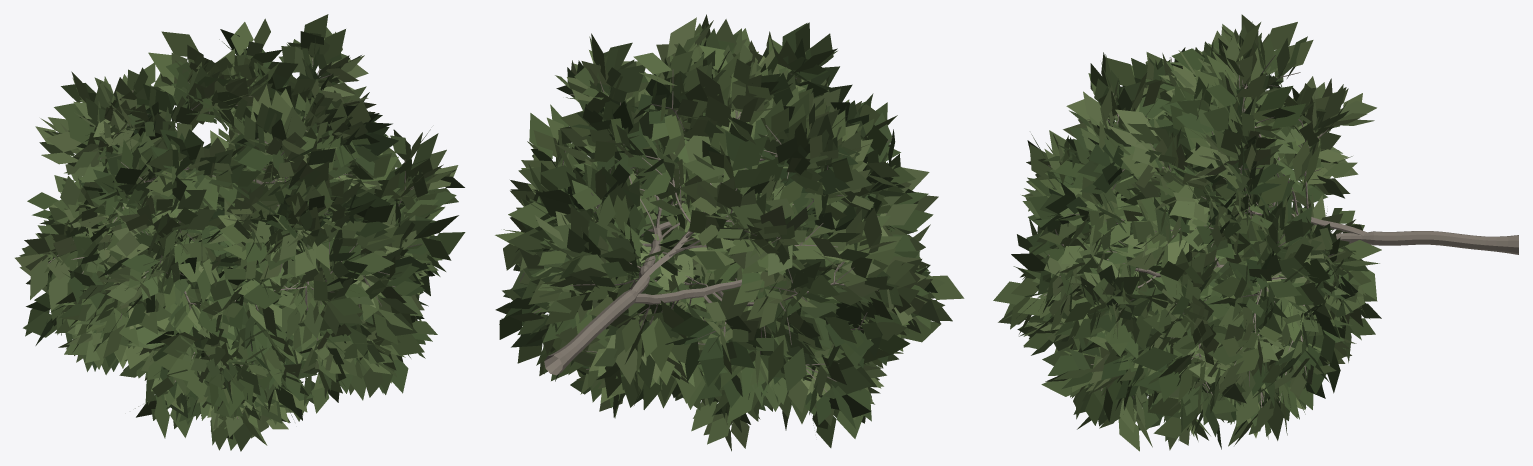
File: tree_shrub_near_02.obj
3 renders of one model, left to right at view 1: azimuth 30°, elevation 25°; view 2: azimuth 150°, elevation 25°; view 3: azimuth 270°, elevation 25°, orthographic. The views are drawn at different scales.
Visible parts, largest first — view 1: tree_shrub_near_02; view 2: tree_shrub_near_02; view 3: tree_shrub_near_02.
Part boxes in pixels (x1=…): tree_shrub_near_02: x1=15, y1=14, x2=465, y2=451; tree_shrub_near_02: x1=495, y1=14, x2=964, y2=451; tree_shrub_near_02: x1=993, y1=14, x2=1518, y2=451.
Size of the model in its own units: 0.8941 by 0.8273 by 0.9914.
1 material, 1 textured.
